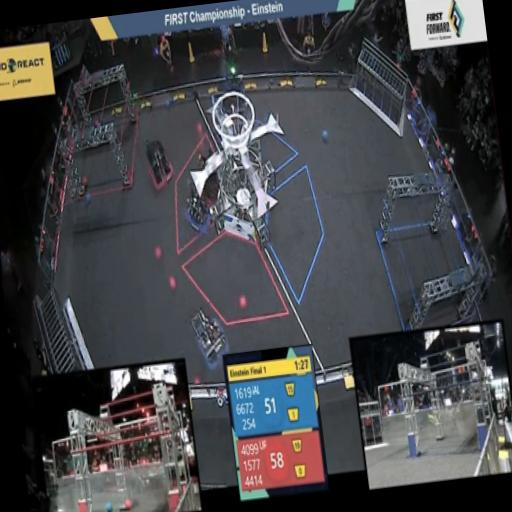robot: (187, 299, 236, 377), (177, 174, 218, 242), (141, 133, 178, 196), (188, 150, 226, 210), (214, 58, 252, 113)
